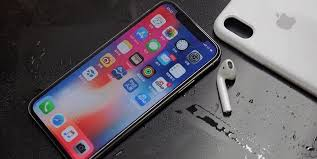iphone10: (24, 1, 222, 158)
